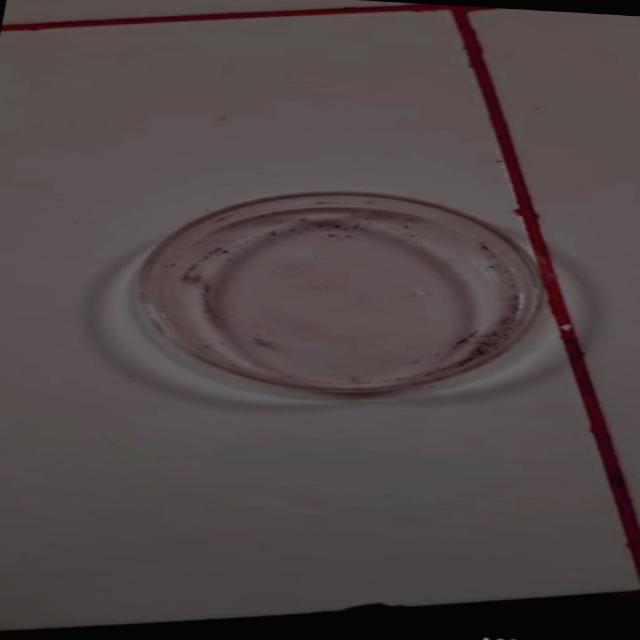Pedrish: (100, 170, 566, 409)
